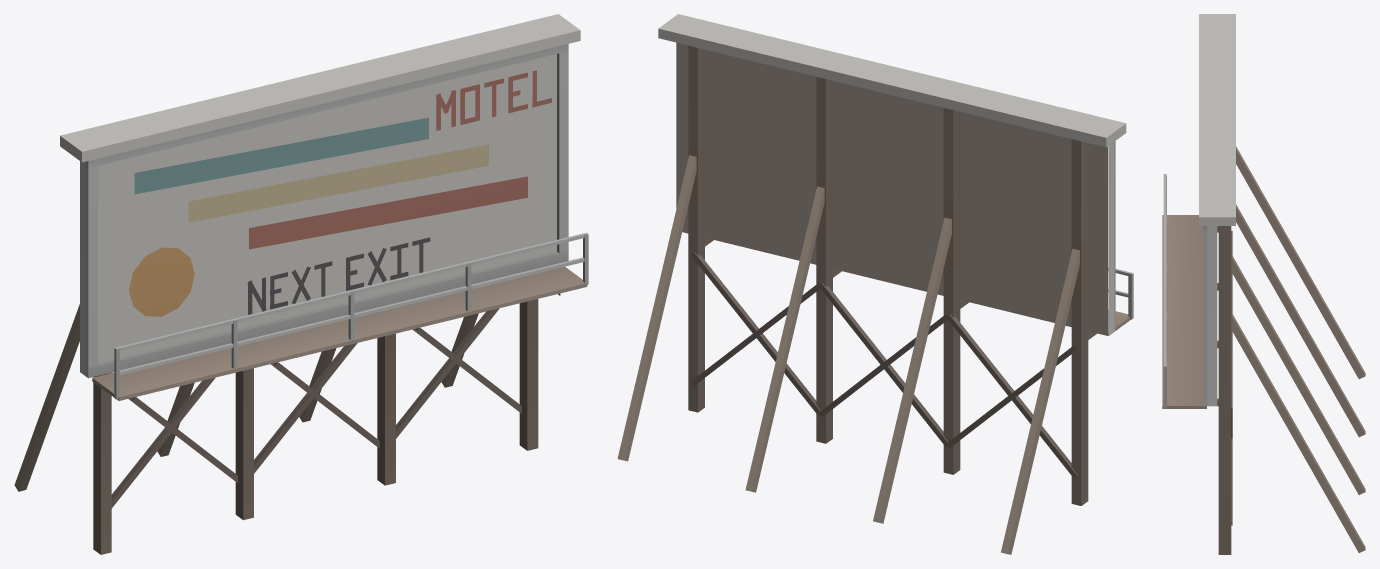
The model's file is billboard.lod1.glb.
3 views of the same model, side by side, from view 1: azimuth 30°, elevation 25°; view 2: azimuth 150°, elevation 25°; view 3: azimuth 270°, elevation 25° (orthographic). The views are drawn at different scales.
Size of the model in its own units: 8.3 by 6.67 by 3.51.
